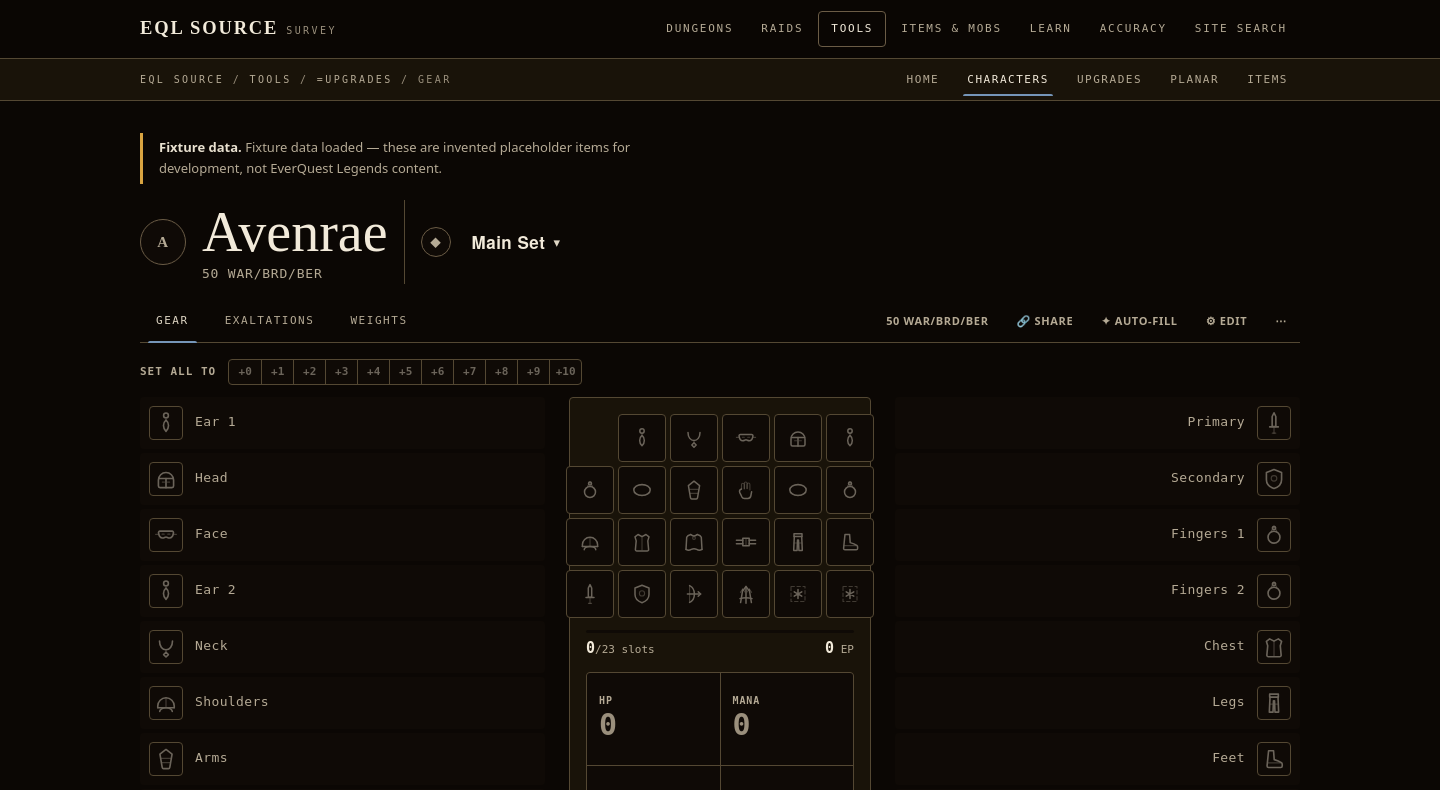
Test case: Auto-fill on a set with default filters › places only what the set’s era filter allows, and says so
Click the button "✦ Auto-fill" at (1140, 321), box [1088,304,1191,338]
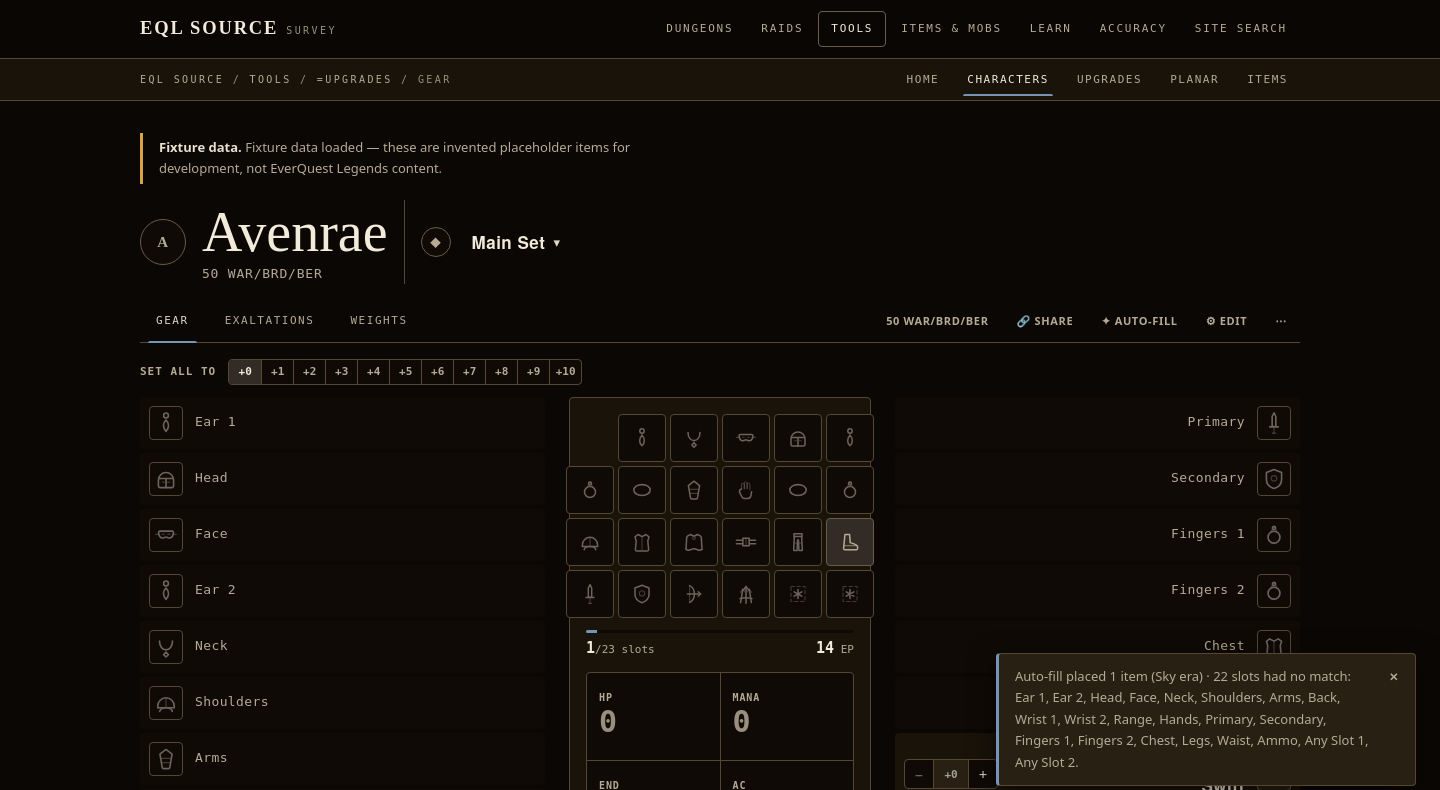
Check: the 2nd message shows "(Sky era)", box [1015,667,1368,771]
